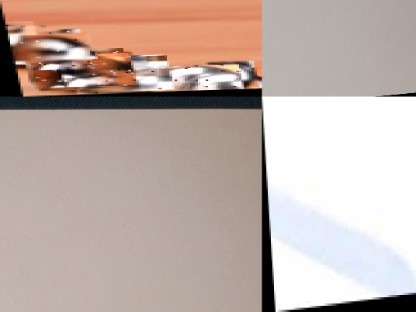ironball: (25, 51, 132, 91), (68, 56, 169, 94), (6, 30, 88, 63), (142, 65, 239, 92), (188, 66, 261, 91), (4, 20, 34, 35)
